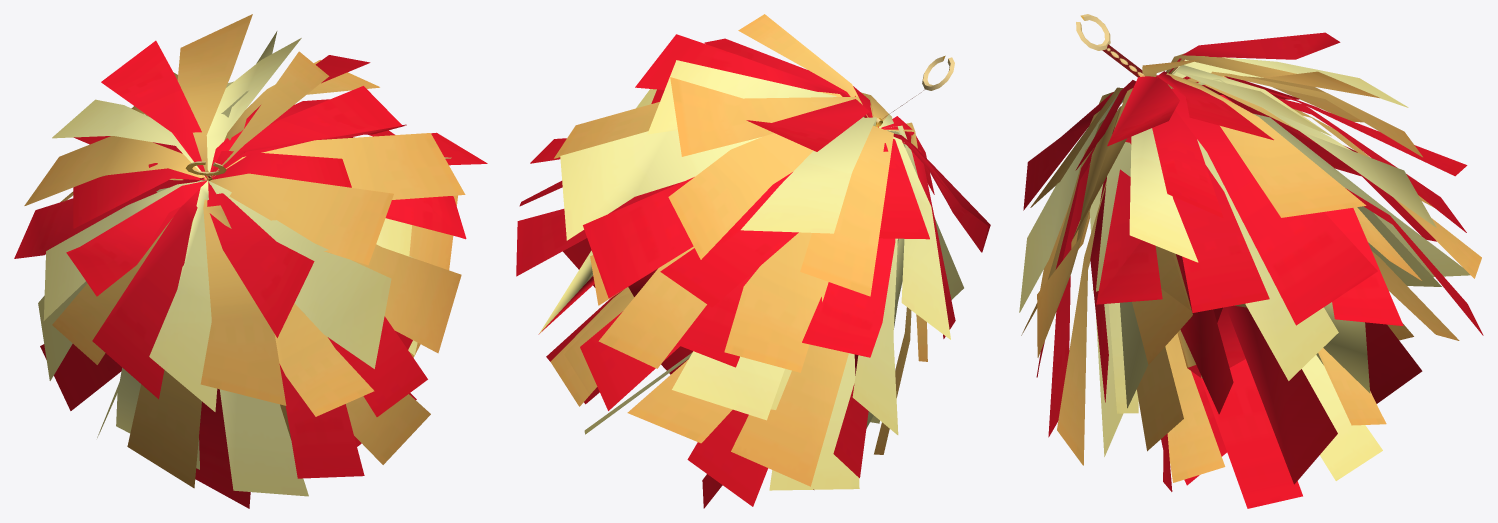
Rendered from NiceNatureAltPomGround.fbx.
The picture shows the model from 3 angles, left to right: view 1: azimuth 30°, elevation 25°; view 2: azimuth 150°, elevation 25°; view 3: azimuth 270°, elevation 25°; orthographic projection. The views are drawn at different scales.
Parts seen in each view (by area): view 1: M_Body_Prop0; view 2: M_Body_Prop0; view 3: M_Body_Prop0.
Part boxes in pixels (bbox=[...]): M_Body_Prop0: bbox=[14, 14, 487, 508]; M_Body_Prop0: bbox=[516, 14, 990, 508]; M_Body_Prop0: bbox=[1019, 14, 1483, 508].
Size of the model in its own units: 0.2542 by 0.2513 by 0.2327.
